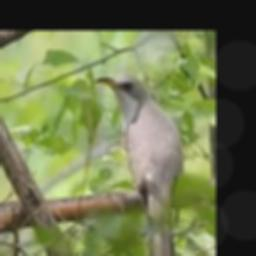Cuckoo: (95, 74, 183, 256)
